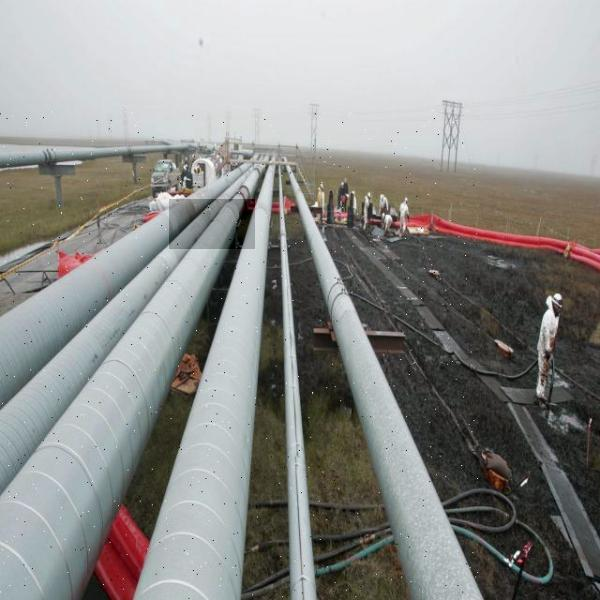no leak: (169, 199, 255, 249)
